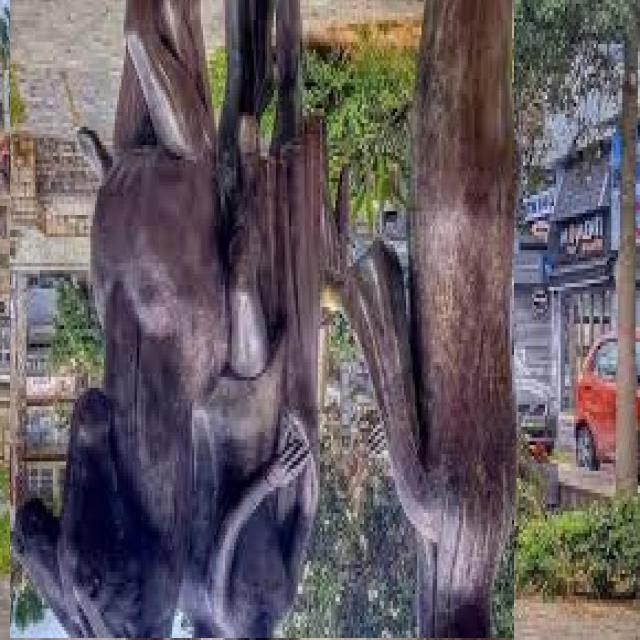Aretousa: (11, 1, 515, 639)
